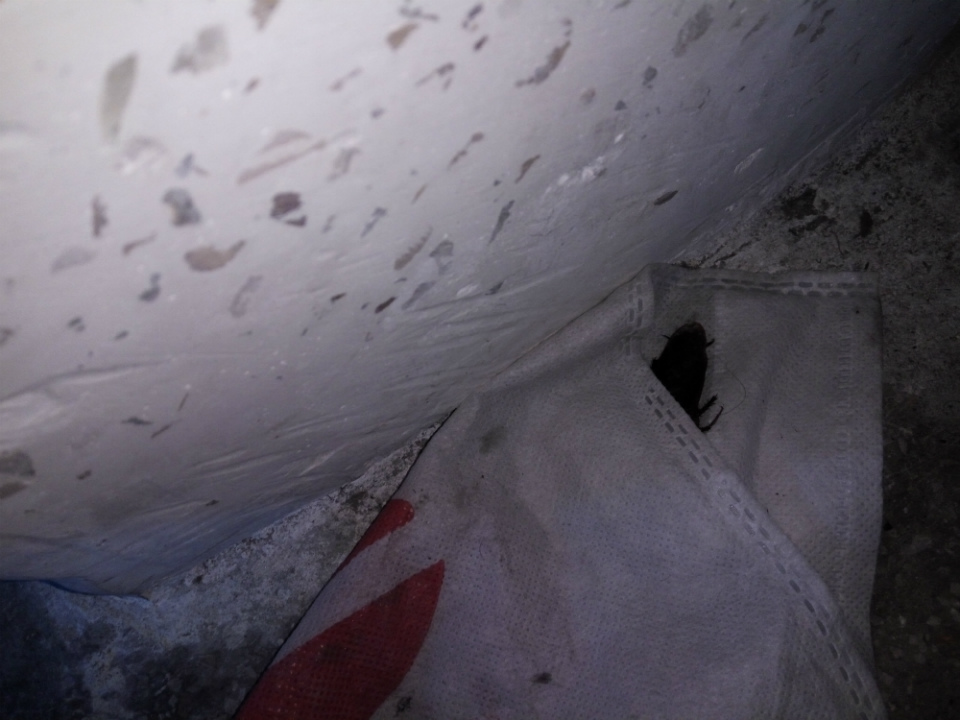cockroach: (601, 286, 758, 447)
